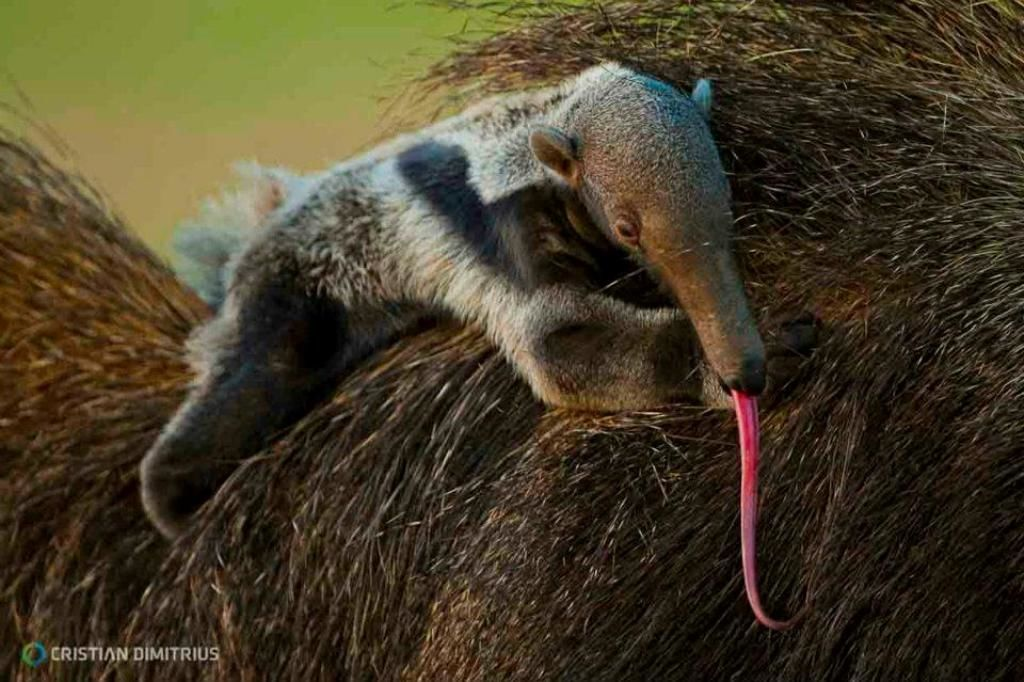TamanduaBandeira: (7, 8, 1019, 680), (124, 65, 807, 643)
